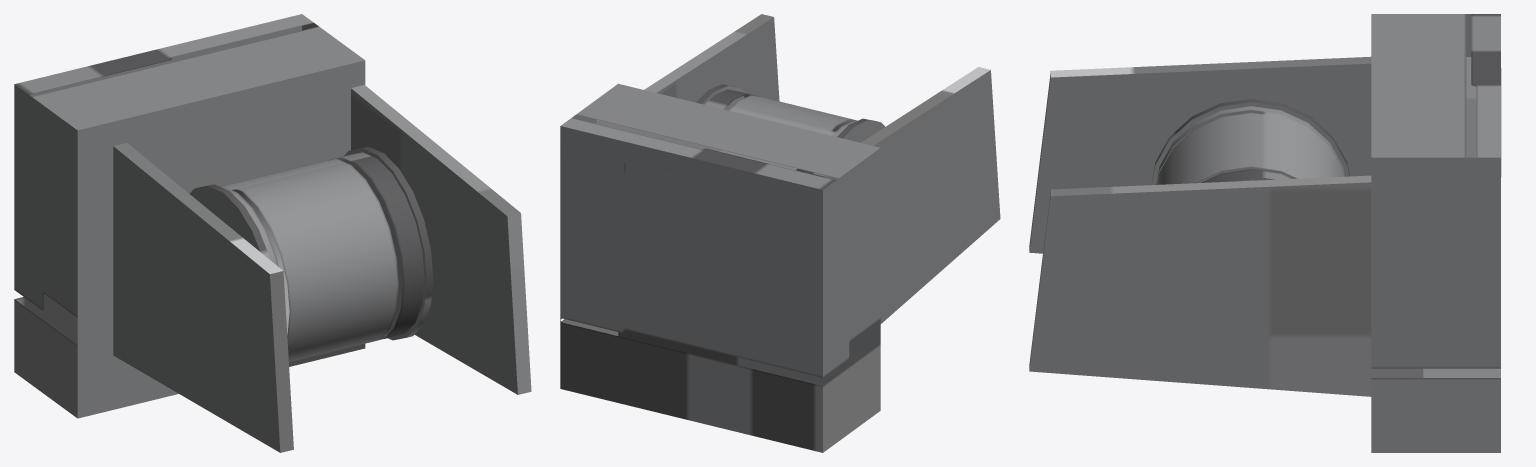
The picture shows the model from 3 angles, left to right: view 1: azimuth 30°, elevation 25°; view 2: azimuth 150°, elevation 25°; view 3: azimuth 270°, elevation 25°; orthographic projection. The views are drawn at different scales.
Bounding box in the file's own units: 1.03 × 0.9826 × 1.48.
